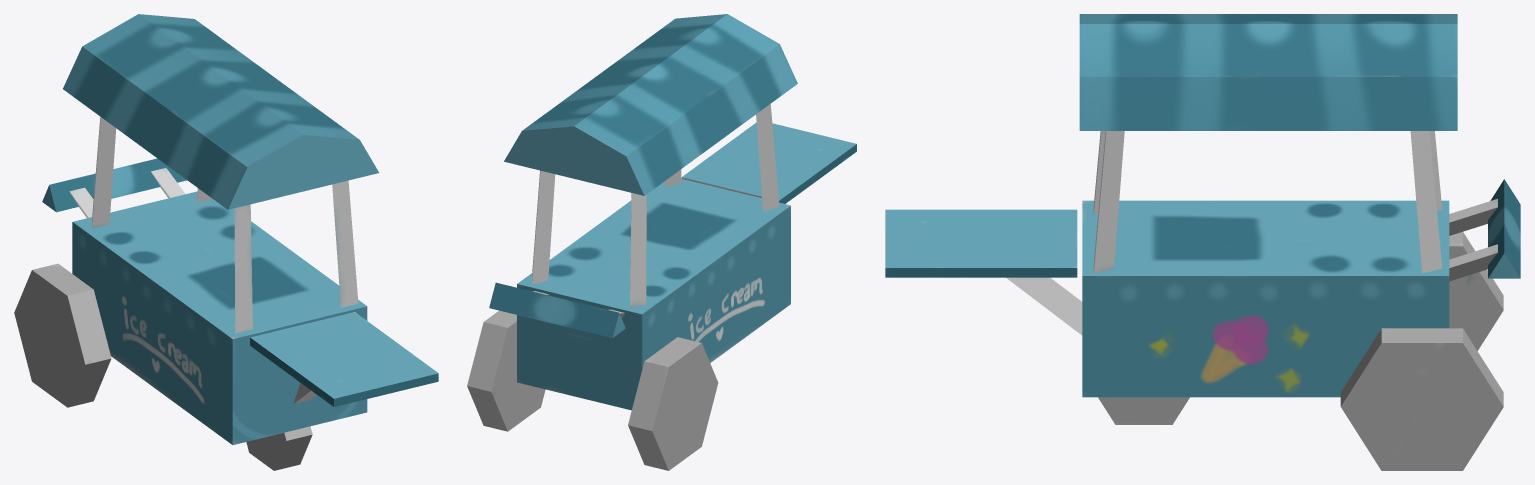
File: Vending Cart.fbx
3 renders of one model, left to right at view 1: azimuth 30°, elevation 25°; view 2: azimuth 150°, elevation 25°; view 3: azimuth 270°, elevation 25°, orthographic. The views are drawn at different scales.
Parts seen in each view (by area): view 1: Cylinder.006; view 2: Cylinder.006; view 3: Cylinder.006.
Boxes of the visible parts, bbox=[...] form: Cylinder.006: bbox=[14, 14, 438, 470]; Cylinder.006: bbox=[467, 14, 856, 470]; Cylinder.006: bbox=[885, 14, 1520, 470].
Bounding box in the file's own units: 282 × 465 × 679.
